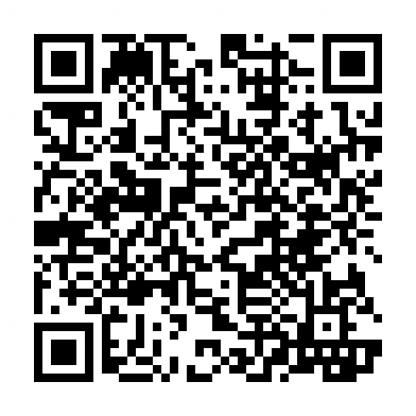qr: (27, 30, 390, 385)
